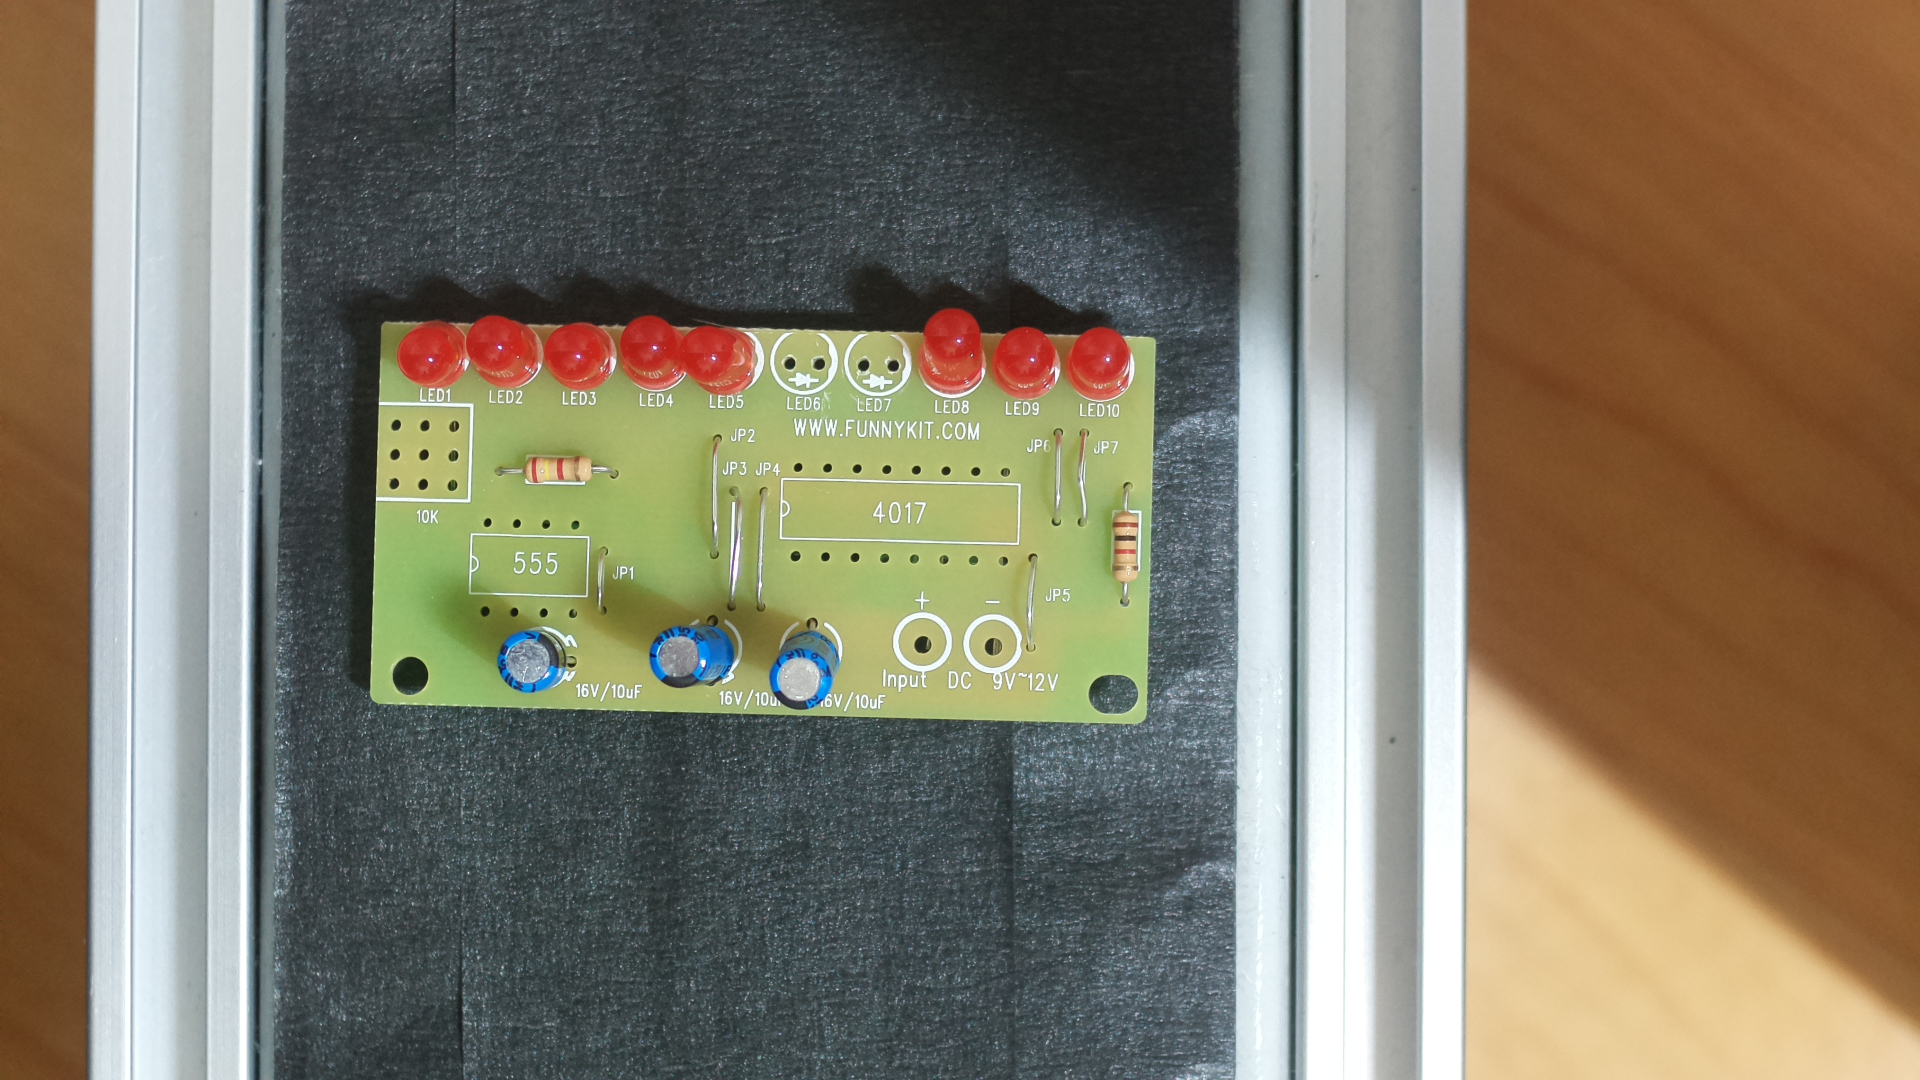B_Missing_part: (369, 303, 1163, 738)
